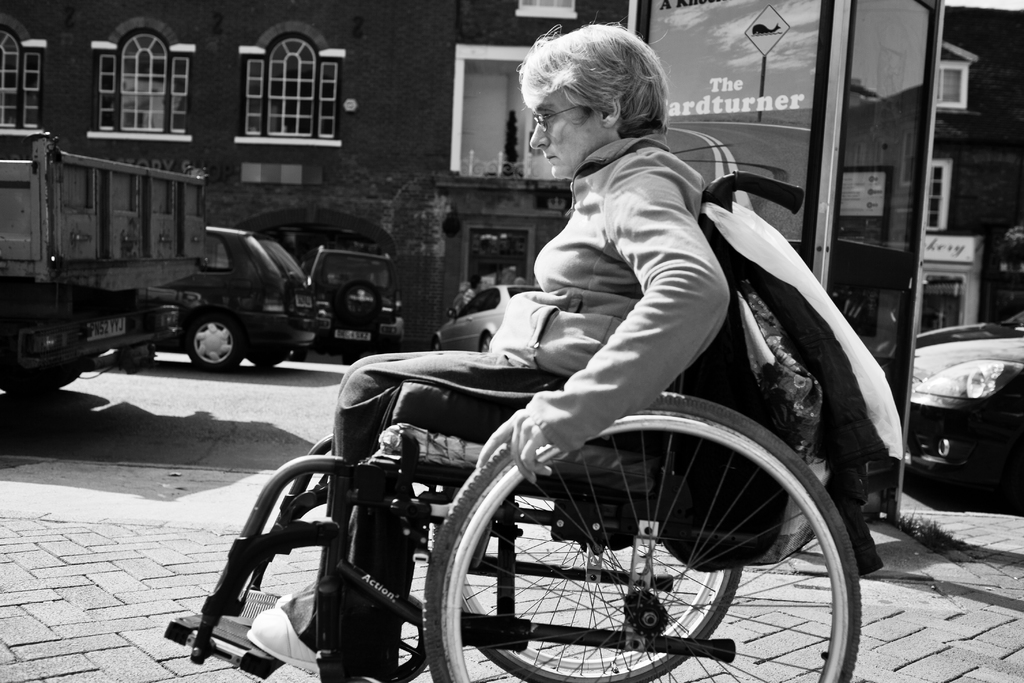Car: (863, 297, 1023, 504), (151, 228, 321, 381), (293, 246, 406, 364), (426, 281, 540, 353)
